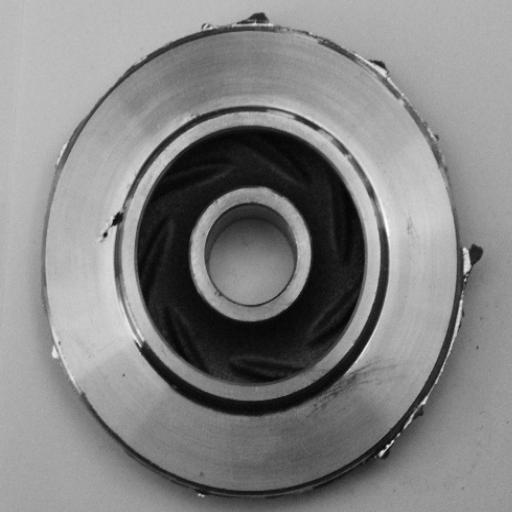casting_with_burr: (38, 9, 485, 500)
crack: (93, 204, 134, 253)
stain: (304, 355, 410, 422)
